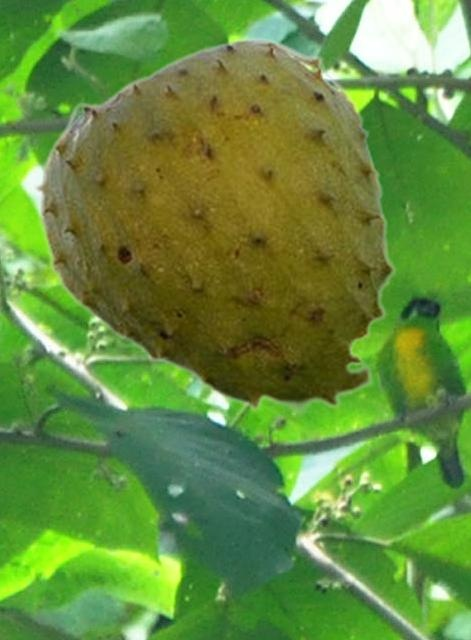guyabano: (31, 36, 396, 416)
